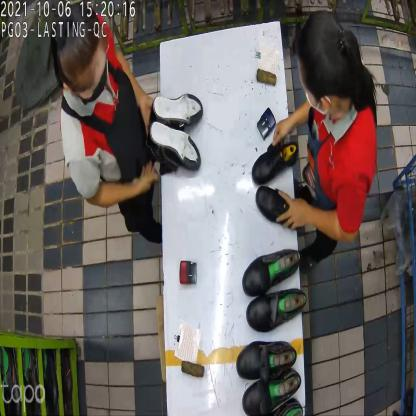shoes: (240, 247, 310, 336), (235, 342, 310, 415), (249, 140, 306, 230), (148, 90, 206, 173)
stamp: (256, 106, 276, 141), (178, 256, 198, 286)
